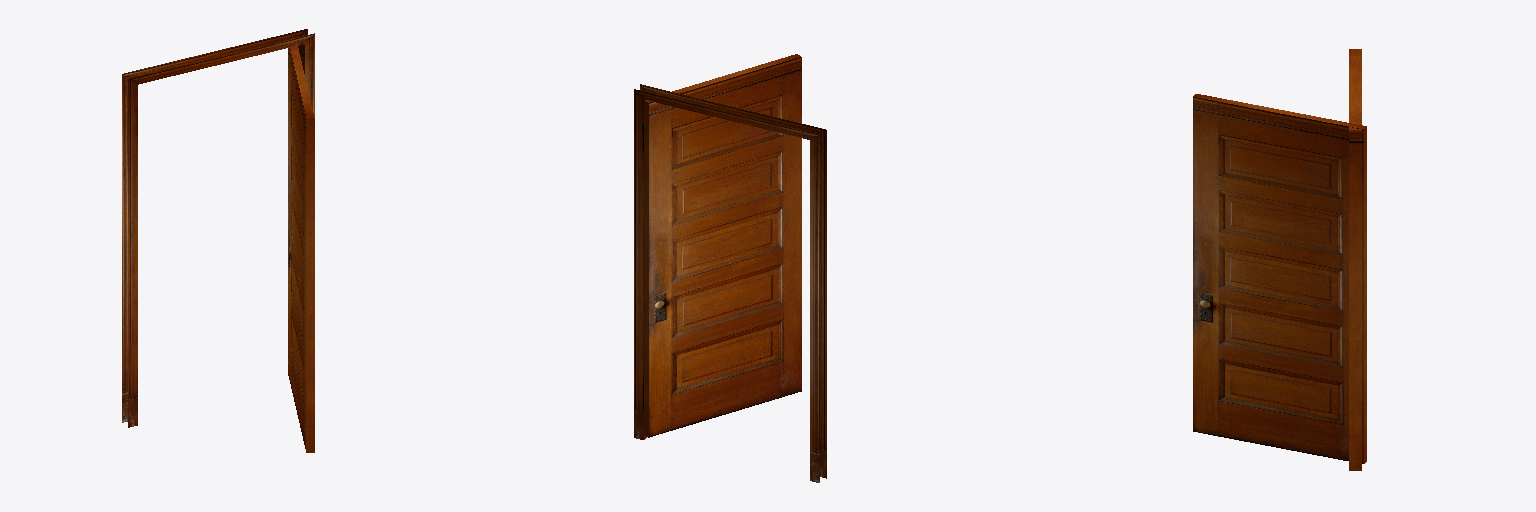
3 views of the same model, side by side, from view 1: azimuth 30°, elevation 25°; view 2: azimuth 150°, elevation 25°; view 3: azimuth 270°, elevation 25° (orthographic).
Parts seen in each view (by area): view 1: InteriorDoor_Mesh.001, InteriorDoorProfile_Mesh; view 2: InteriorDoor_Mesh.001, InteriorDoorProfile_Mesh; view 3: InteriorDoor_Mesh.001, InteriorDoorProfile_Mesh.
Part boxes in pixels (x1,y1,x2,y2): InteriorDoor_Mesh.001: (288,45,314,452); InteriorDoorProfile_Mesh: (122,29,314,427); InteriorDoor_Mesh.001: (644,54,801,437); InteriorDoorProfile_Mesh: (634,84,826,482); InteriorDoor_Mesh.001: (1193,94,1366,463); InteriorDoorProfile_Mesh: (1349,49,1361,470).
Size of the model in its own units: 1.32 by 2.36 by 1.07.
Materials: 1 (1 with a texture image).